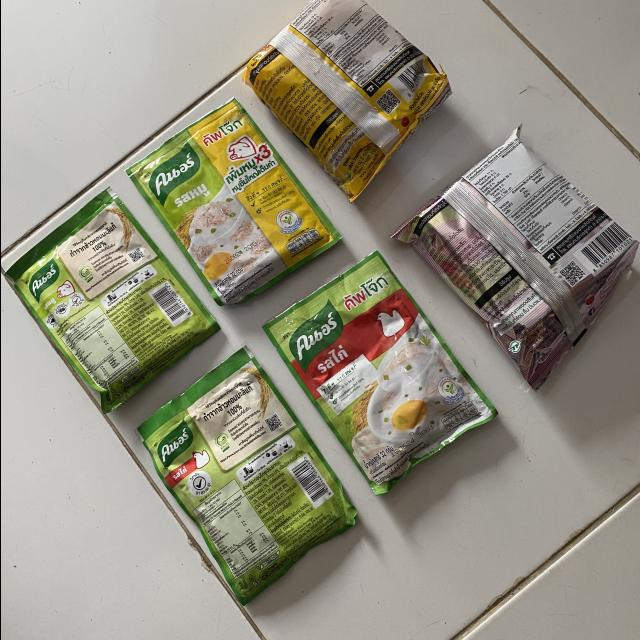plastik: (391, 130, 636, 390), (135, 348, 355, 604), (263, 252, 495, 494), (4, 189, 217, 413), (124, 99, 339, 305), (242, 0, 449, 202)
